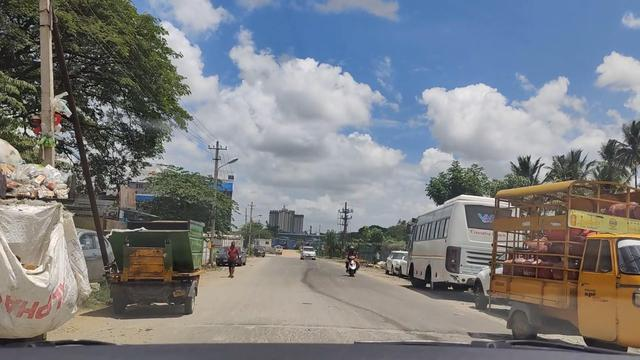HMV: (489, 188, 640, 360), (109, 222, 213, 319)
RoadDamages: (228, 325, 480, 342)
